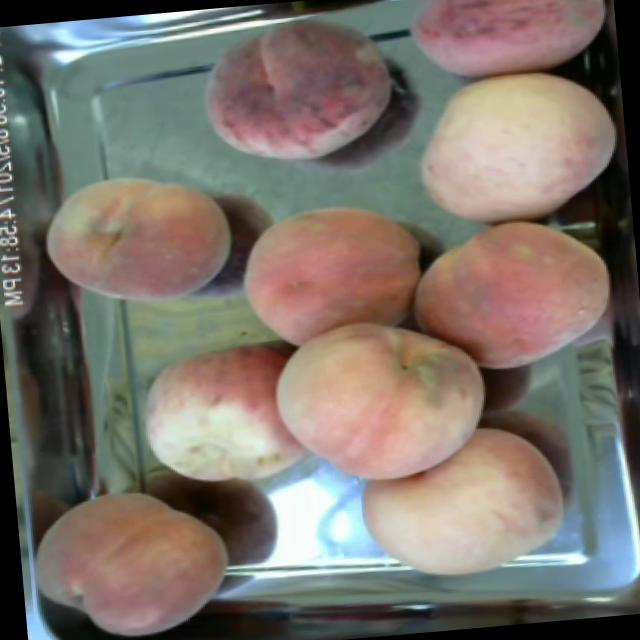Fruit: (261, 305, 501, 498), (344, 410, 582, 603), (395, 62, 632, 240), (188, 0, 418, 180), (394, 212, 626, 388), (24, 470, 240, 640), (229, 190, 441, 356), (28, 160, 245, 319), (132, 331, 316, 505), (389, 0, 620, 100)
